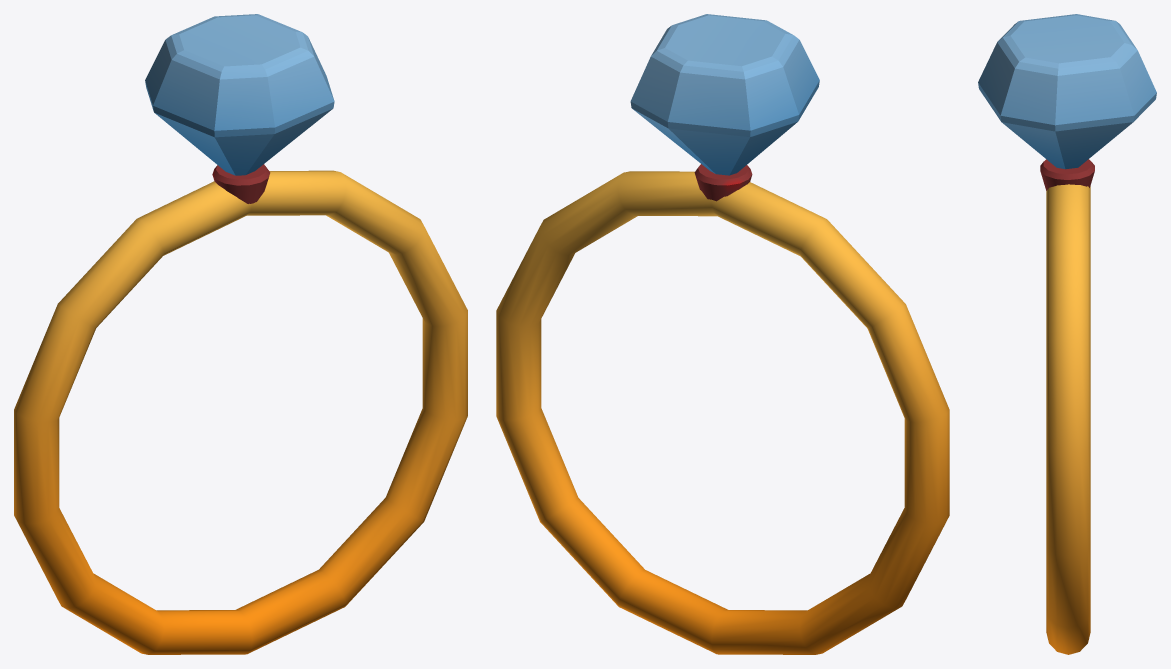
File: Ring_2.fbx
The picture shows the model from 3 angles, left to right: view 1: azimuth 30°, elevation 25°; view 2: azimuth 150°, elevation 25°; view 3: azimuth 270°, elevation 25°; orthographic projection. The views are drawn at different scales.
Parts seen in each view (by area): view 1: Ring_2; view 2: Ring_2; view 3: Ring_2.
Part boxes in pixels (left/top/right/bottom): Ring_2: left=14, top=14, right=467, bottom=654; Ring_2: left=496, top=14, right=949, bottom=654; Ring_2: left=978, top=14, right=1156, bottom=654.
Size of the model in its own units: 0.2286 by 0.2992 by 0.0821.
